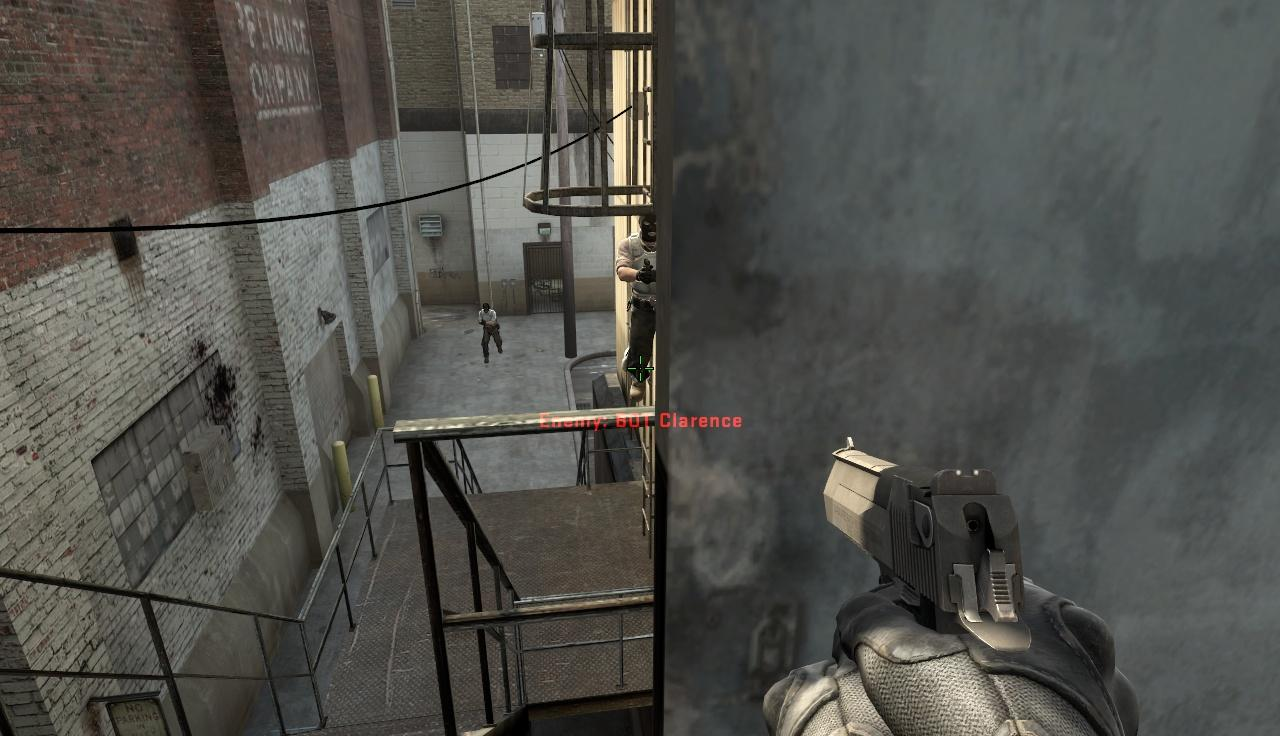pistol: (815, 430, 1131, 732)
tt: (619, 210, 662, 404), (478, 304, 502, 362)
tthead: (638, 211, 659, 244), (483, 303, 490, 313)
